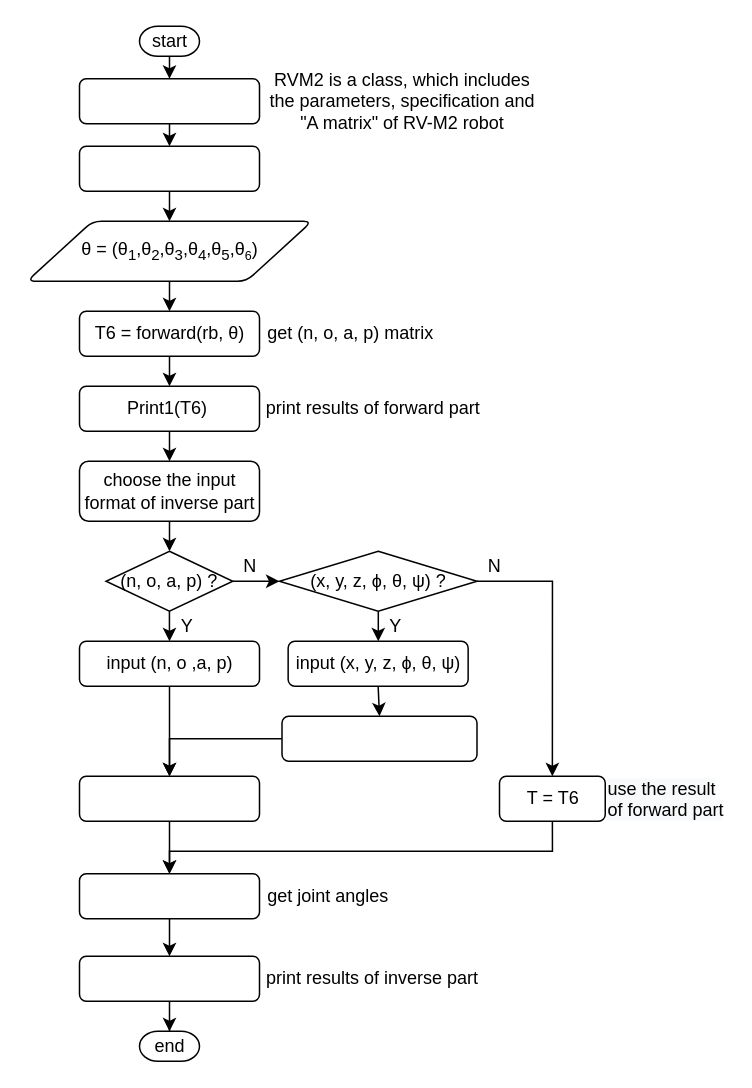
Some shapes in this 752 by 1088 pixel diagram are drawn without their labels. The centre of each missing label's shape, as x and y in pixels:
convert (x, y, z, ϕ, θ, ψ) to (n, o, a, p): point 378,738
input joint angles: point 169,168
joint = inverse(T): point 169,895
Print2(rb, joint): point 169,978
rb = RVM2: point 169,100
T = (n, o, a, p): point 169,798
